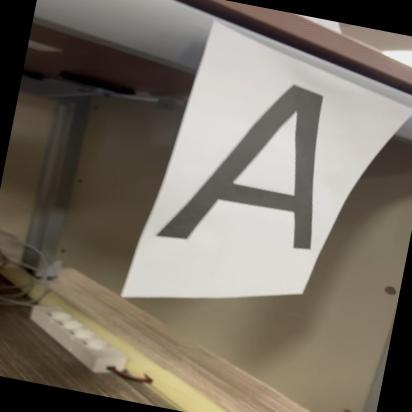seat: (162, 57, 348, 267)
